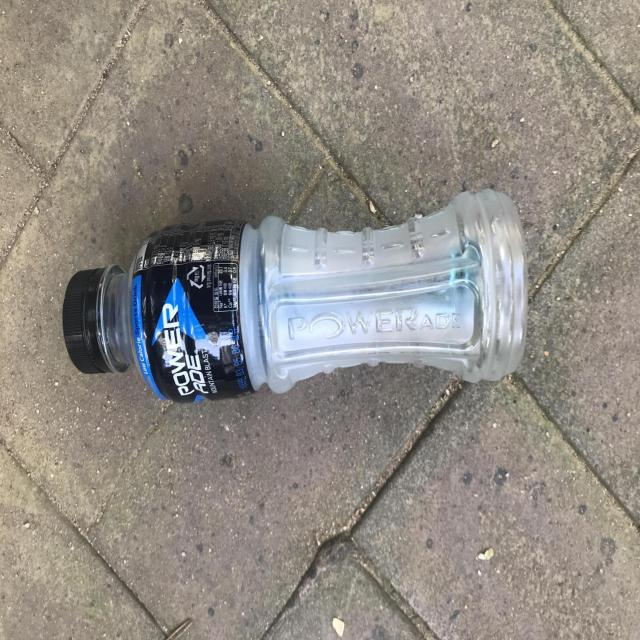plastic: (62, 189, 528, 402)
